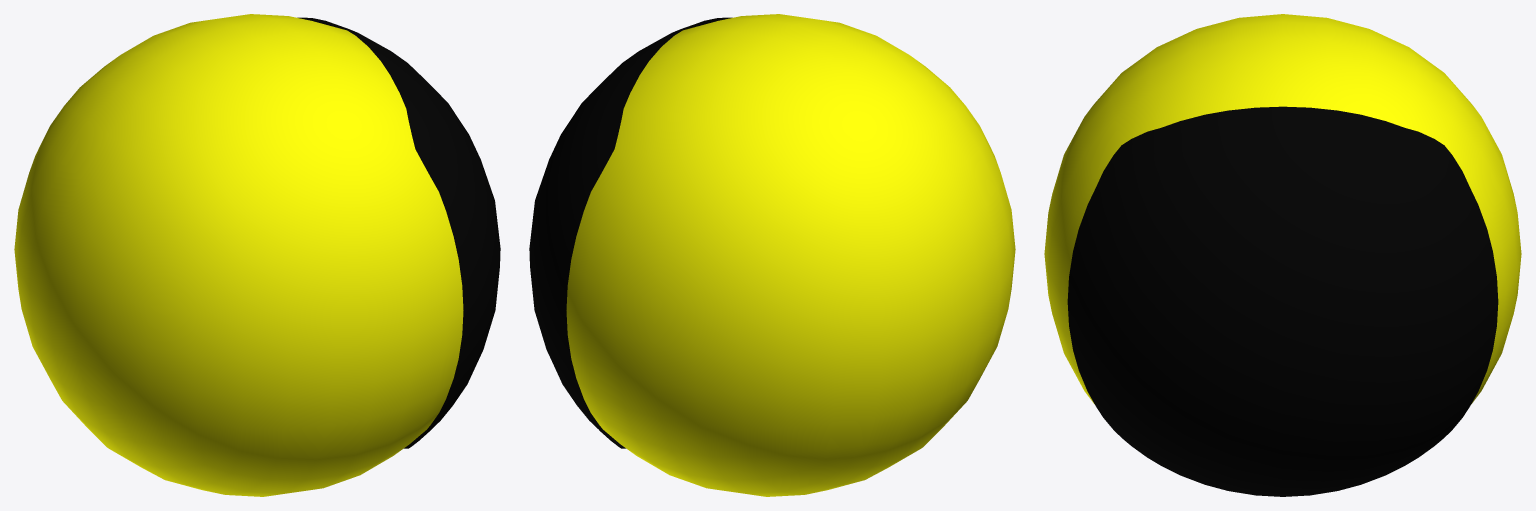
Rendered from Emoji.fbx.
3 renders of one model, left to right at view 1: azimuth 30°, elevation 25°; view 2: azimuth 150°, elevation 25°; view 3: azimuth 270°, elevation 25°, orthographic.
Parts seen in each view (by area): view 1: Body, Face_1; view 2: Body, Face_1; view 3: Face_1, Body.
Part boxes in pixels (x1,y1,x2,y2): Body: [14, 14, 463, 496]; Face_1: [297, 17, 500, 448]; Body: [566, 14, 1015, 496]; Face_1: [529, 17, 732, 448]; Face_1: [1067, 106, 1498, 496]; Body: [1044, 14, 1521, 404].
Bounding box in the file's own units: 268 × 270 × 268.
